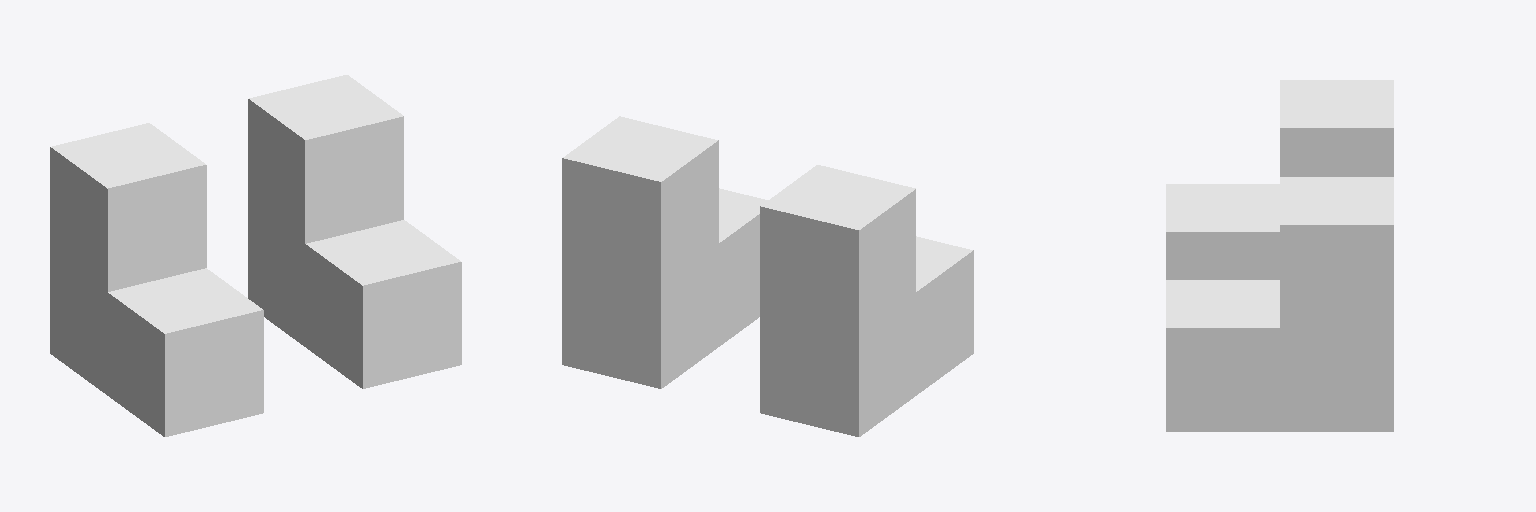
Rendered from SK_Legs.obj.
3 renders of one model, left to right at view 1: azimuth 30°, elevation 25°; view 2: azimuth 150°, elevation 25°; view 3: azimuth 270°, elevation 25°, orthographic.
Parts seen in each view (by area): view 1: object 1; view 2: object 1; view 3: object 1.
Boxes of the visible parts, box(x1,y1,x2,y2) form: object 1: box(50, 75, 461, 436); object 1: box(562, 116, 973, 436); object 1: box(1166, 80, 1393, 431).
Bounding box in the file's own units: 0.6 × 0.4 × 0.4.